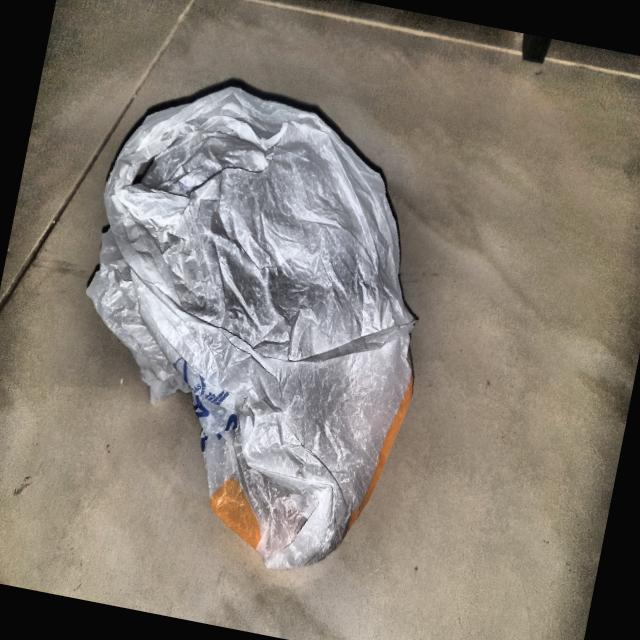plastic bag: (19, 42, 480, 609)
